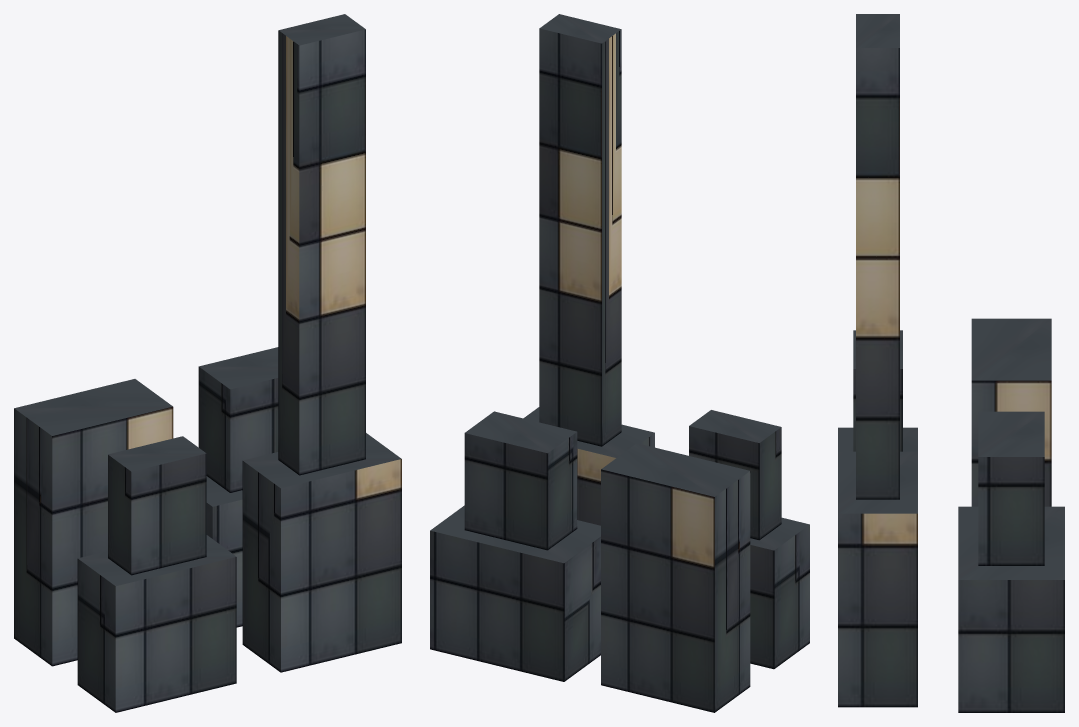
The model's file is block_26.obj.
The picture shows the model from 3 angles, left to right: view 1: azimuth 30°, elevation 25°; view 2: azimuth 150°, elevation 25°; view 3: azimuth 270°, elevation 25°; orthographic projection. The views are drawn at different scales.
Visible parts, largest first — view 1: b3, b1, b0, b2; view 2: b3, b0, b2, b1; view 3: b3, b2, b0, b1.
Part boxes in pixels (x1=…): b3: x1=242, y1=14, x2=401, y2=672; b1: x1=77, y1=436, x2=236, y2=712; b0: x1=14, y1=379, x2=173, y2=666; b2: x1=198, y1=347, x2=278, y2=627; b3: x1=523, y1=14, x2=654, y2=525; b0: x1=601, y1=443, x2=750, y2=712; b2: x1=430, y1=411, x2=600, y2=681; b1: x1=689, y1=410, x2=809, y2=669; b3: x1=838, y1=14, x2=917, y2=707; b2: x1=958, y1=411, x2=1064, y2=712; b0: x1=971, y1=318, x2=1051, y2=506; b1: x1=838, y1=330, x2=917, y2=451.
Size of the model in its own units: 4.05 by 8 by 2.55.
